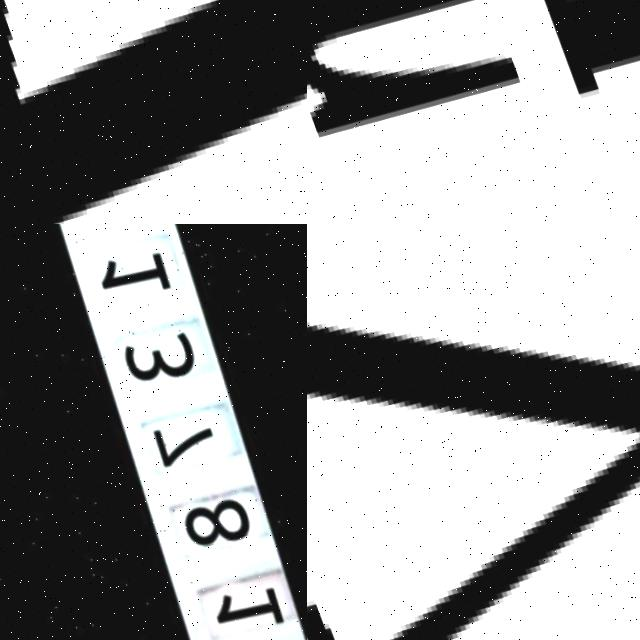1: (0, 0, 307, 224), (64, 224, 186, 317), (179, 551, 292, 640)
3: (90, 298, 215, 404)
7: (121, 387, 233, 483)
8: (145, 464, 267, 567)
G: (307, 0, 640, 182)
V: (307, 224, 640, 640)
